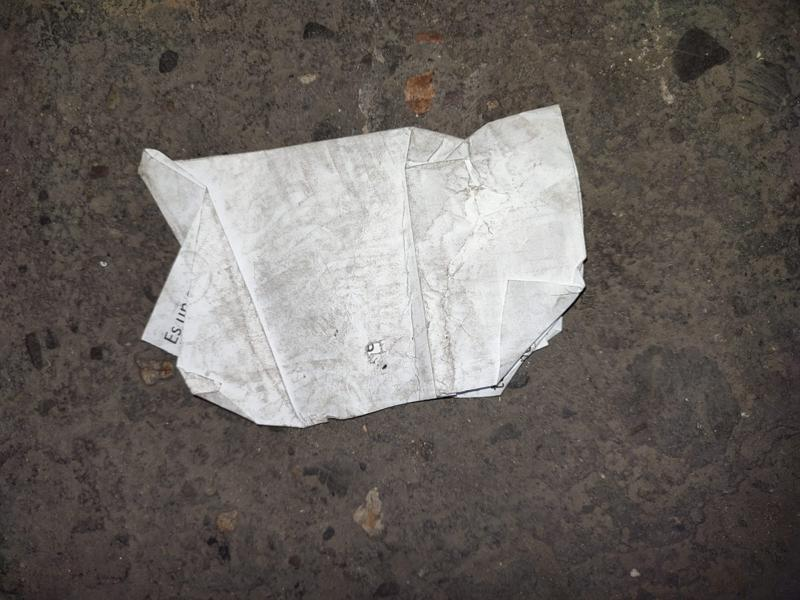papel: (136, 107, 588, 430)
